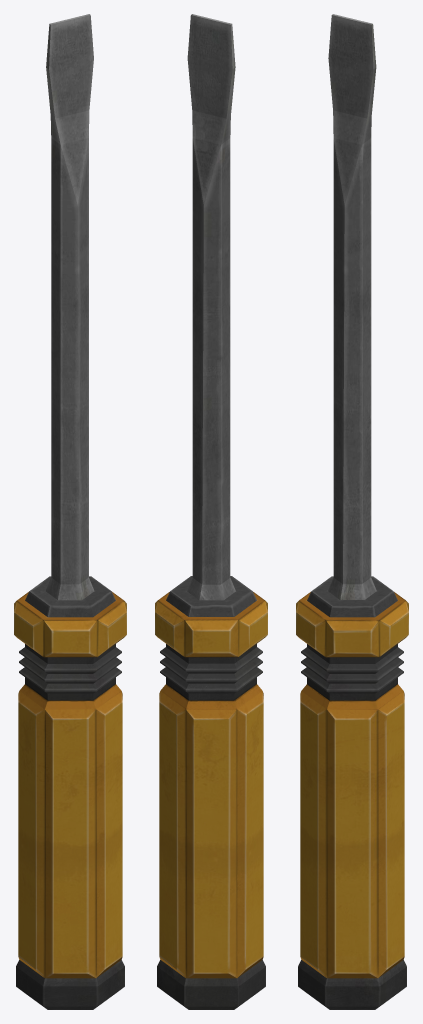
Rendered from screwdriver.FBX.
3 views of the same model, side by side, from view 1: azimuth 30°, elevation 25°; view 2: azimuth 150°, elevation 25°; view 3: azimuth 330°, elevation 25° (orthographic).
Visible parts, largest first — view 1: screwdriver; view 2: screwdriver; view 3: screwdriver.
Boxes of the visible parts, x1,y1,x2,y2 form: screwdriver: (14,14,126,1009); screwdriver: (155,14,267,1009); screwdriver: (296,14,408,1009).
Size of the model in its own units: 30.35 by 301 by 31.57.
